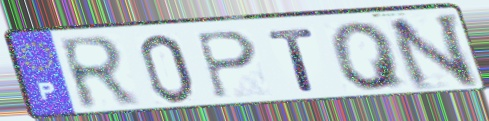0: (136, 31, 198, 106)
N: (383, 10, 481, 93)
P: (192, 29, 261, 102)
Q: (327, 20, 411, 93)
R: (54, 33, 143, 114)
T: (264, 26, 319, 94)
